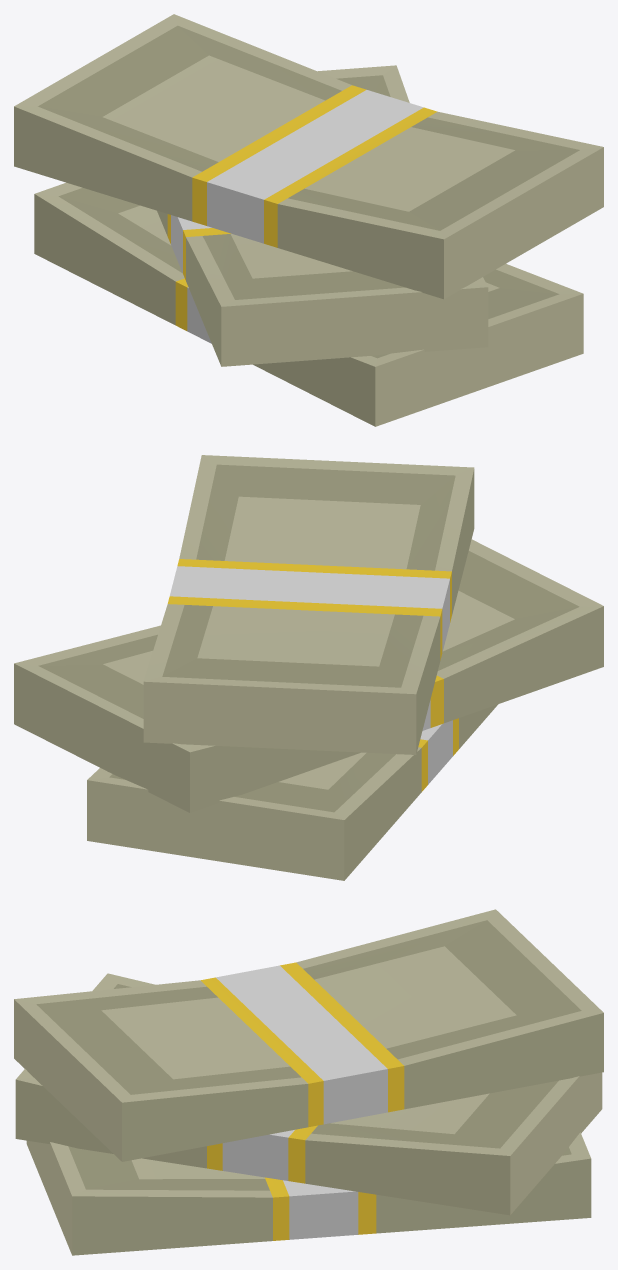
File: MoneyStack2.glb
The picture shows the model from 3 angles, top to bottom: view 1: azimuth 30°, elevation 25°; view 2: azimuth 150°, elevation 25°; view 3: azimuth 270°, elevation 25°; orthographic projection. The views are drawn at different scales.
Visible parts, largest first — view 1: SI_Prop_MoneyStack_02; view 2: SI_Prop_MoneyStack_02; view 3: SI_Prop_MoneyStack_02.
Part boxes in pixels (x1,y1,x2,y2): SI_Prop_MoneyStack_02: (14,14,603,426); SI_Prop_MoneyStack_02: (14,455,603,880); SI_Prop_MoneyStack_02: (14,909,603,1255).
Bounding box in the file's own units: 0.00267 × 0.00113 × 0.00344.
1 material, 1 textured.
